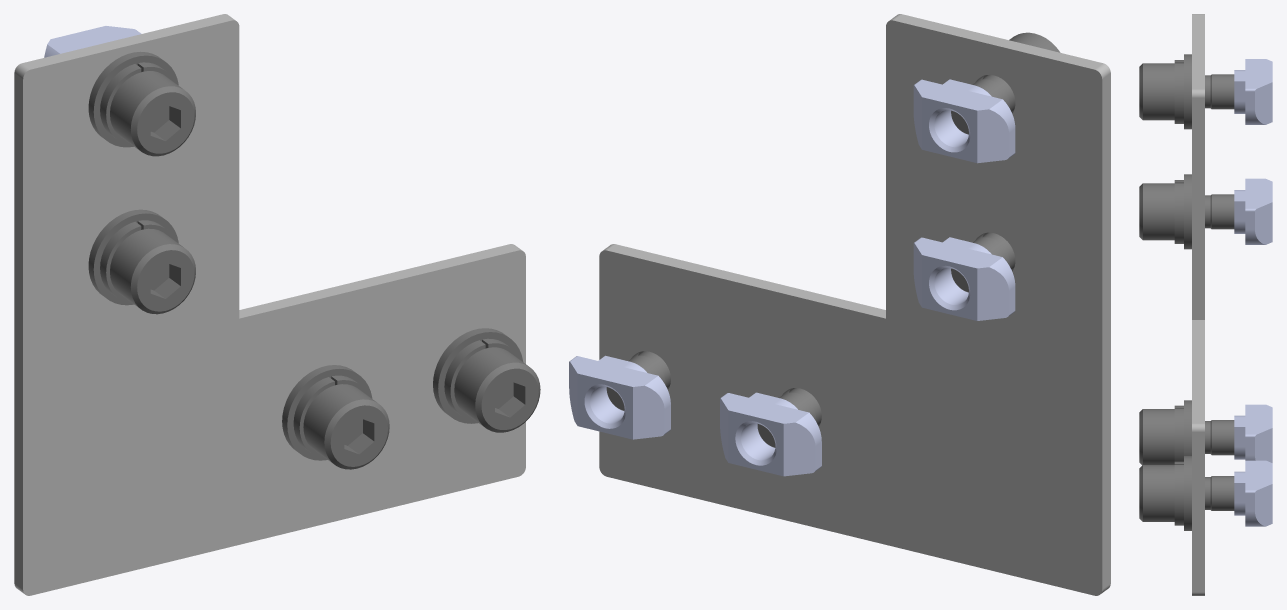
Rendered from TPHA-TPHA-4510-4545L-ZP.glb.
3 renders of one model, left to right at view 1: azimuth 30°, elevation 25°; view 2: azimuth 150°, elevation 25°; view 3: azimuth 270°, elevation 25°, orthographic. The views are drawn at different scales.
Parts seen in each view (by area): view 1: NAUO1, NAUO8, NAUO4, NAUO2, NAUO6, NAUO9; view 2: NAUO1, NAUO7, NAUO9, NAUO3, NAUO5, NAUO8, NAUO2, NAUO6, NAUO4; view 3: NAUO1, NAUO6, NAUO8, NAUO2, NAUO4, NAUO3, NAUO7, NAUO9, NAUO5.
Part boxes in pixels (<box>): NAUO1: <box>14,14,525,595</box>; NAUO8: <box>88,51,195,156</box>; NAUO4: <box>282,365,389,469</box>; NAUO2: <box>433,328,540,432</box>; NAUO6: <box>88,209,195,314</box>; NAUO9: <box>44,26,141,57</box>; NAUO1: <box>599,14,1110,595</box>; NAUO7: <box>913,237,1015,320</box>; NAUO9: <box>913,79,1015,163</box>; NAUO3: <box>569,355,670,439</box>; NAUO5: <box>720,392,821,476</box>; NAUO8: <box>951,32,1060,134</box>; NAUO2: <box>606,351,670,410</box>; NAUO6: <box>951,232,1015,292</box>; NAUO4: <box>757,388,821,447</box>; NAUO1: <box>1192,14,1204,595</box>; NAUO6: <box>1139,174,1234,249</box>; NAUO8: <box>1139,54,1234,129</box>; NAUO2: <box>1139,456,1234,530</box>; NAUO4: <box>1139,400,1234,465</box>; NAUO3: <box>1234,460,1272,526</box>; NAUO7: <box>1234,178,1272,244</box>; NAUO9: <box>1234,59,1272,124</box>; NAUO5: <box>1234,404,1272,462</box>.
Bounding box in the file's own units: 0.1 × 0.1 × 0.0302.
